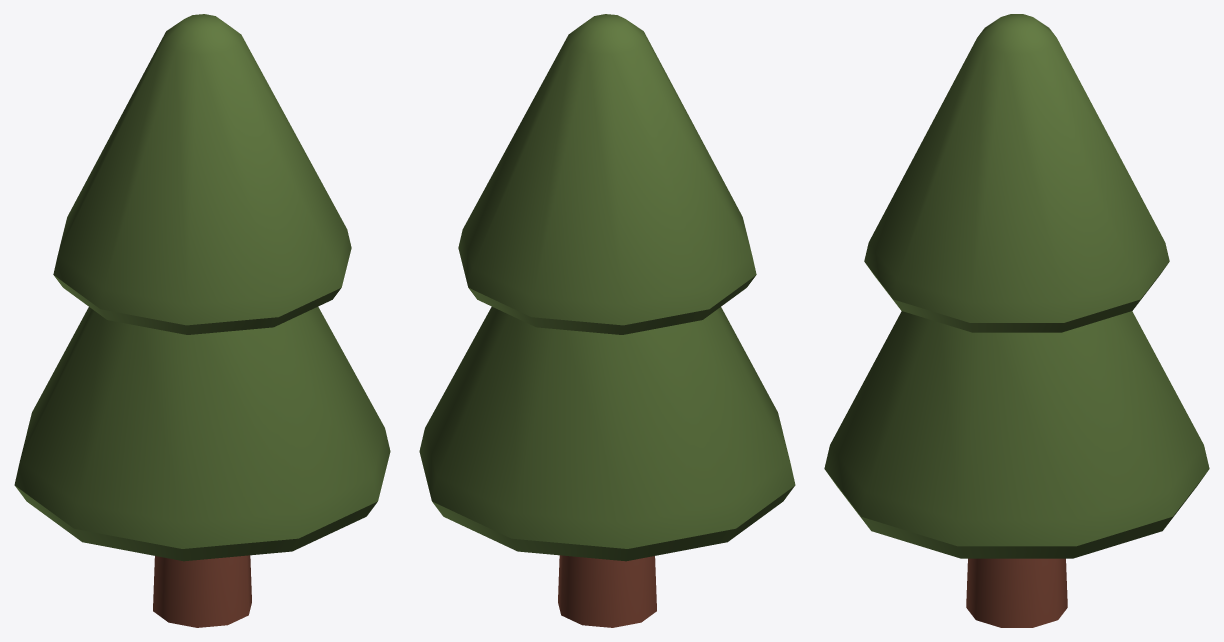
The model's file is oak.glb.
3 views of the same model, side by side, from view 1: azimuth 30°, elevation 25°; view 2: azimuth 150°, elevation 25°; view 3: azimuth 270°, elevation 25° (orthographic).
Visible parts, largest first — view 1: tree_single_B; view 2: tree_single_B; view 3: tree_single_B.
Boxes of the visible parts, x1,y1,x2,y2 form: tree_single_B: (14, 14, 390, 627); tree_single_B: (419, 14, 795, 627); tree_single_B: (824, 14, 1209, 627).
Bounding box in the file's own units: 0.6849 × 1.21 × 0.7201.
